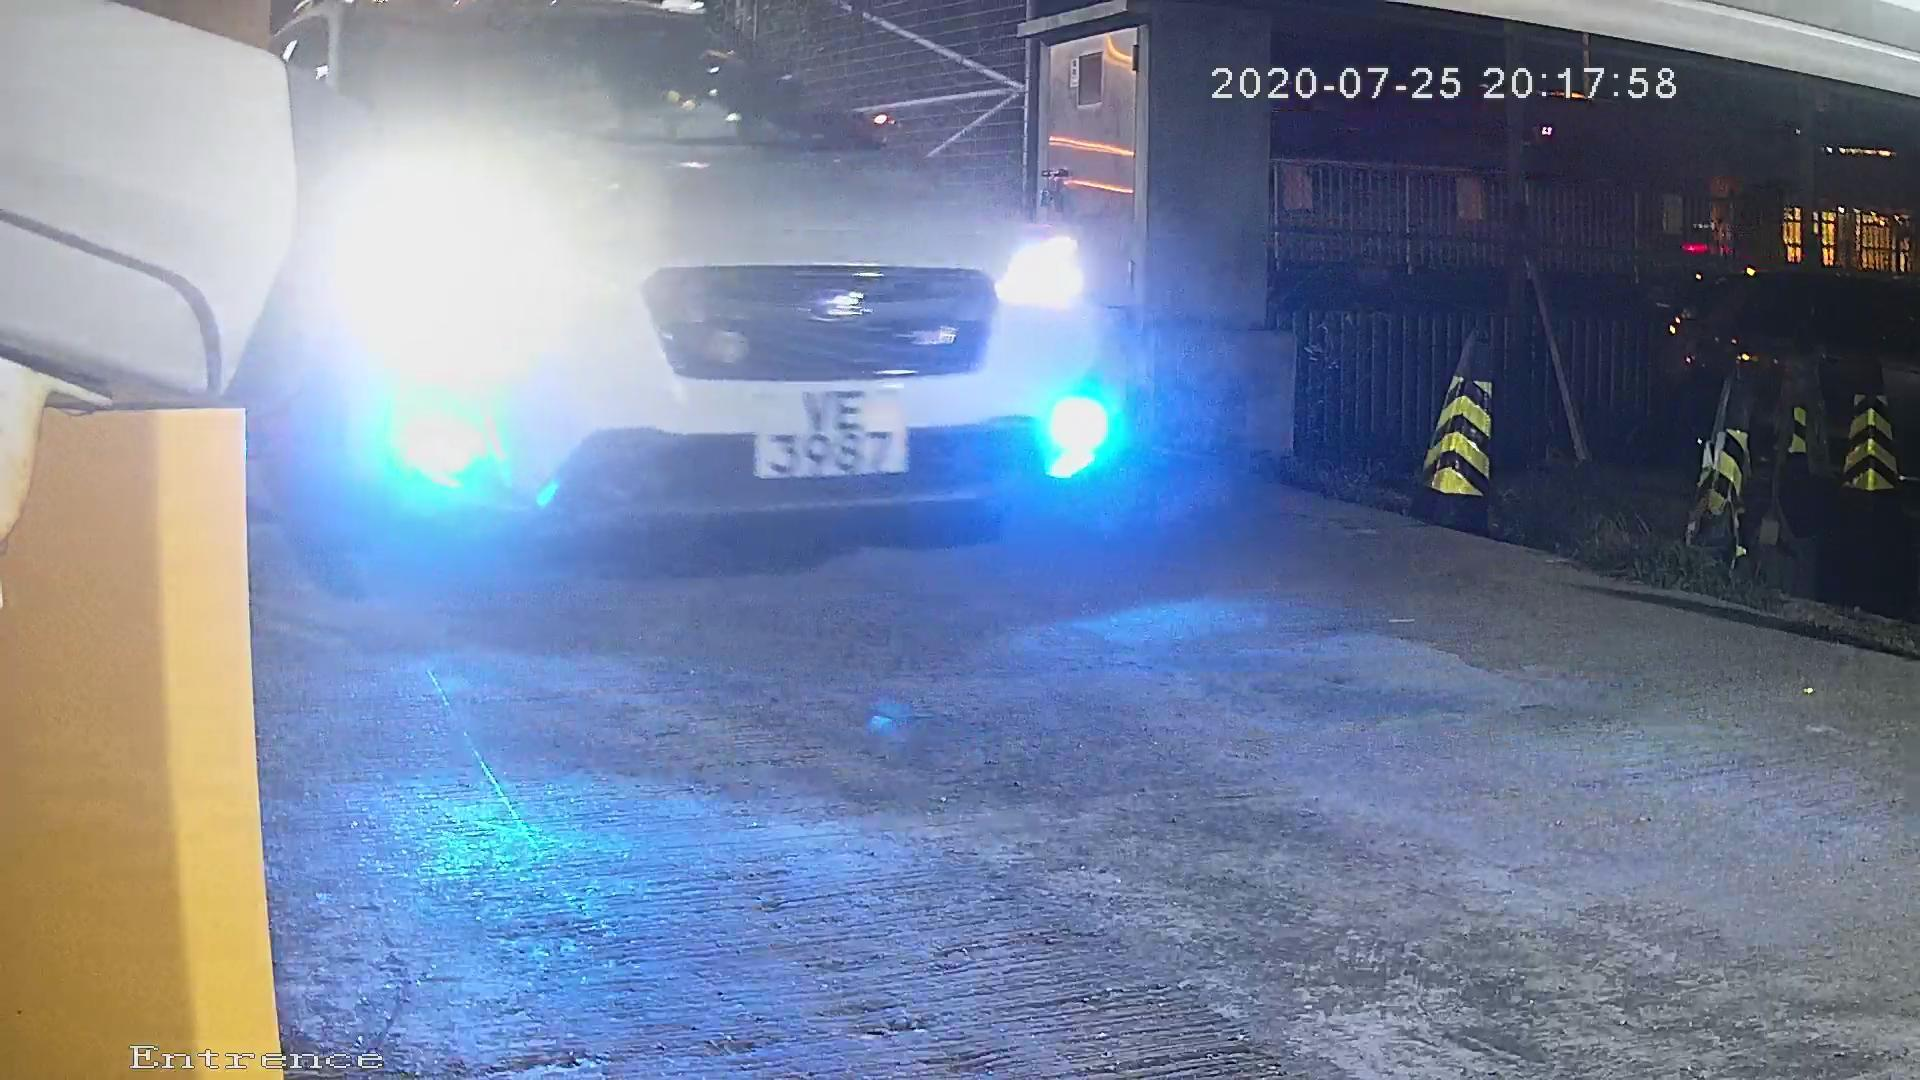privatecar: (239, 3, 1130, 595)
